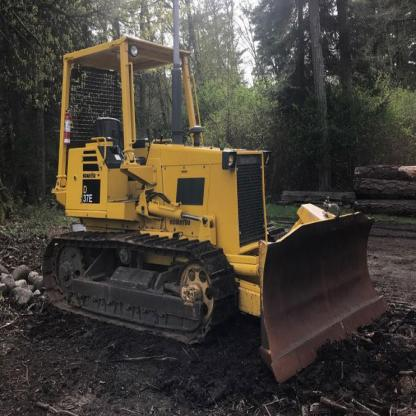bull_dozer/loader/grader: (27, 28, 391, 391)
